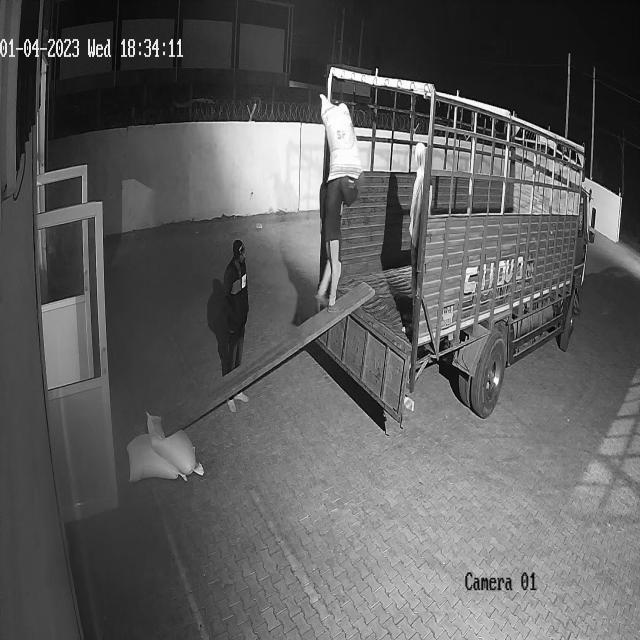sack: (319, 93, 362, 183), (146, 412, 203, 477), (126, 432, 188, 480)
